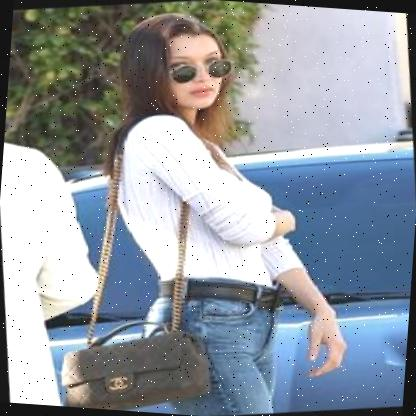bag: (54, 292, 224, 416)
person: (85, 5, 375, 416)
